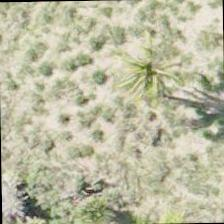Kelapa_Sawit: (100, 28, 192, 119)
